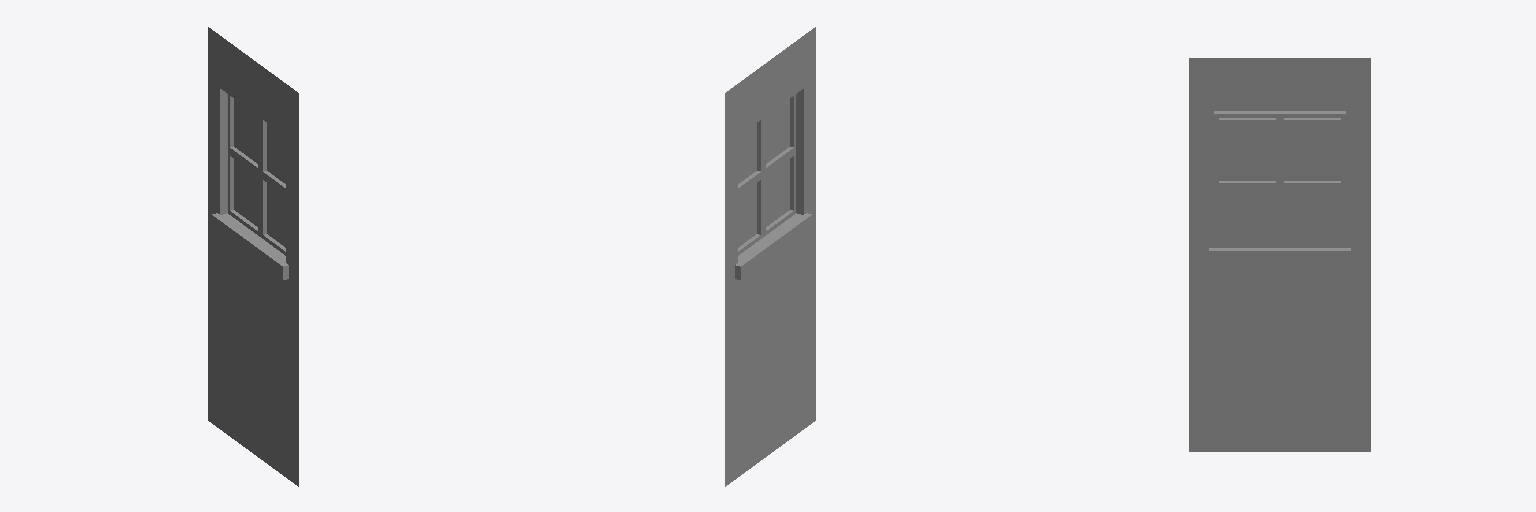
Rendered from Window1.obj.
3 views of the same model, side by side, from view 1: azimuth 30°, elevation 25°; view 2: azimuth 150°, elevation 25°; view 3: azimuth 270°, elevation 25° (orthographic).
Visible parts, largest first — view 1: Window1; view 2: Window1; view 3: Window1.
Part boxes in pixels (left/top/right/bottom): Window1: left=208, top=27, right=298, bottom=486; Window1: left=725, top=27, right=815, bottom=486; Window1: left=1189, top=58, right=1370, bottom=451.
Size of the model in its own units: 0.139 by 3 by 1.25.